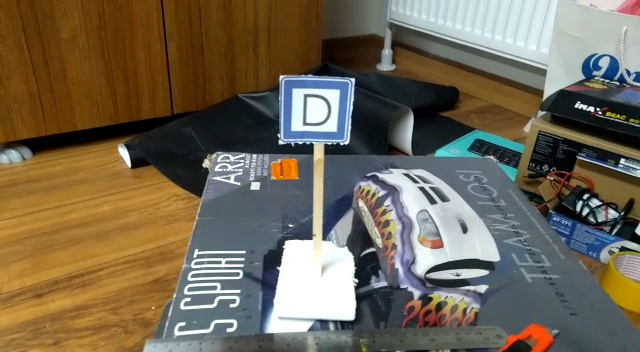durak: (274, 82, 356, 152)
